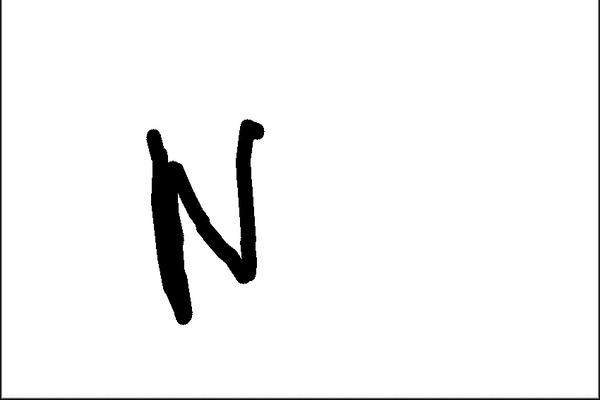N: (134, 112, 275, 330)
